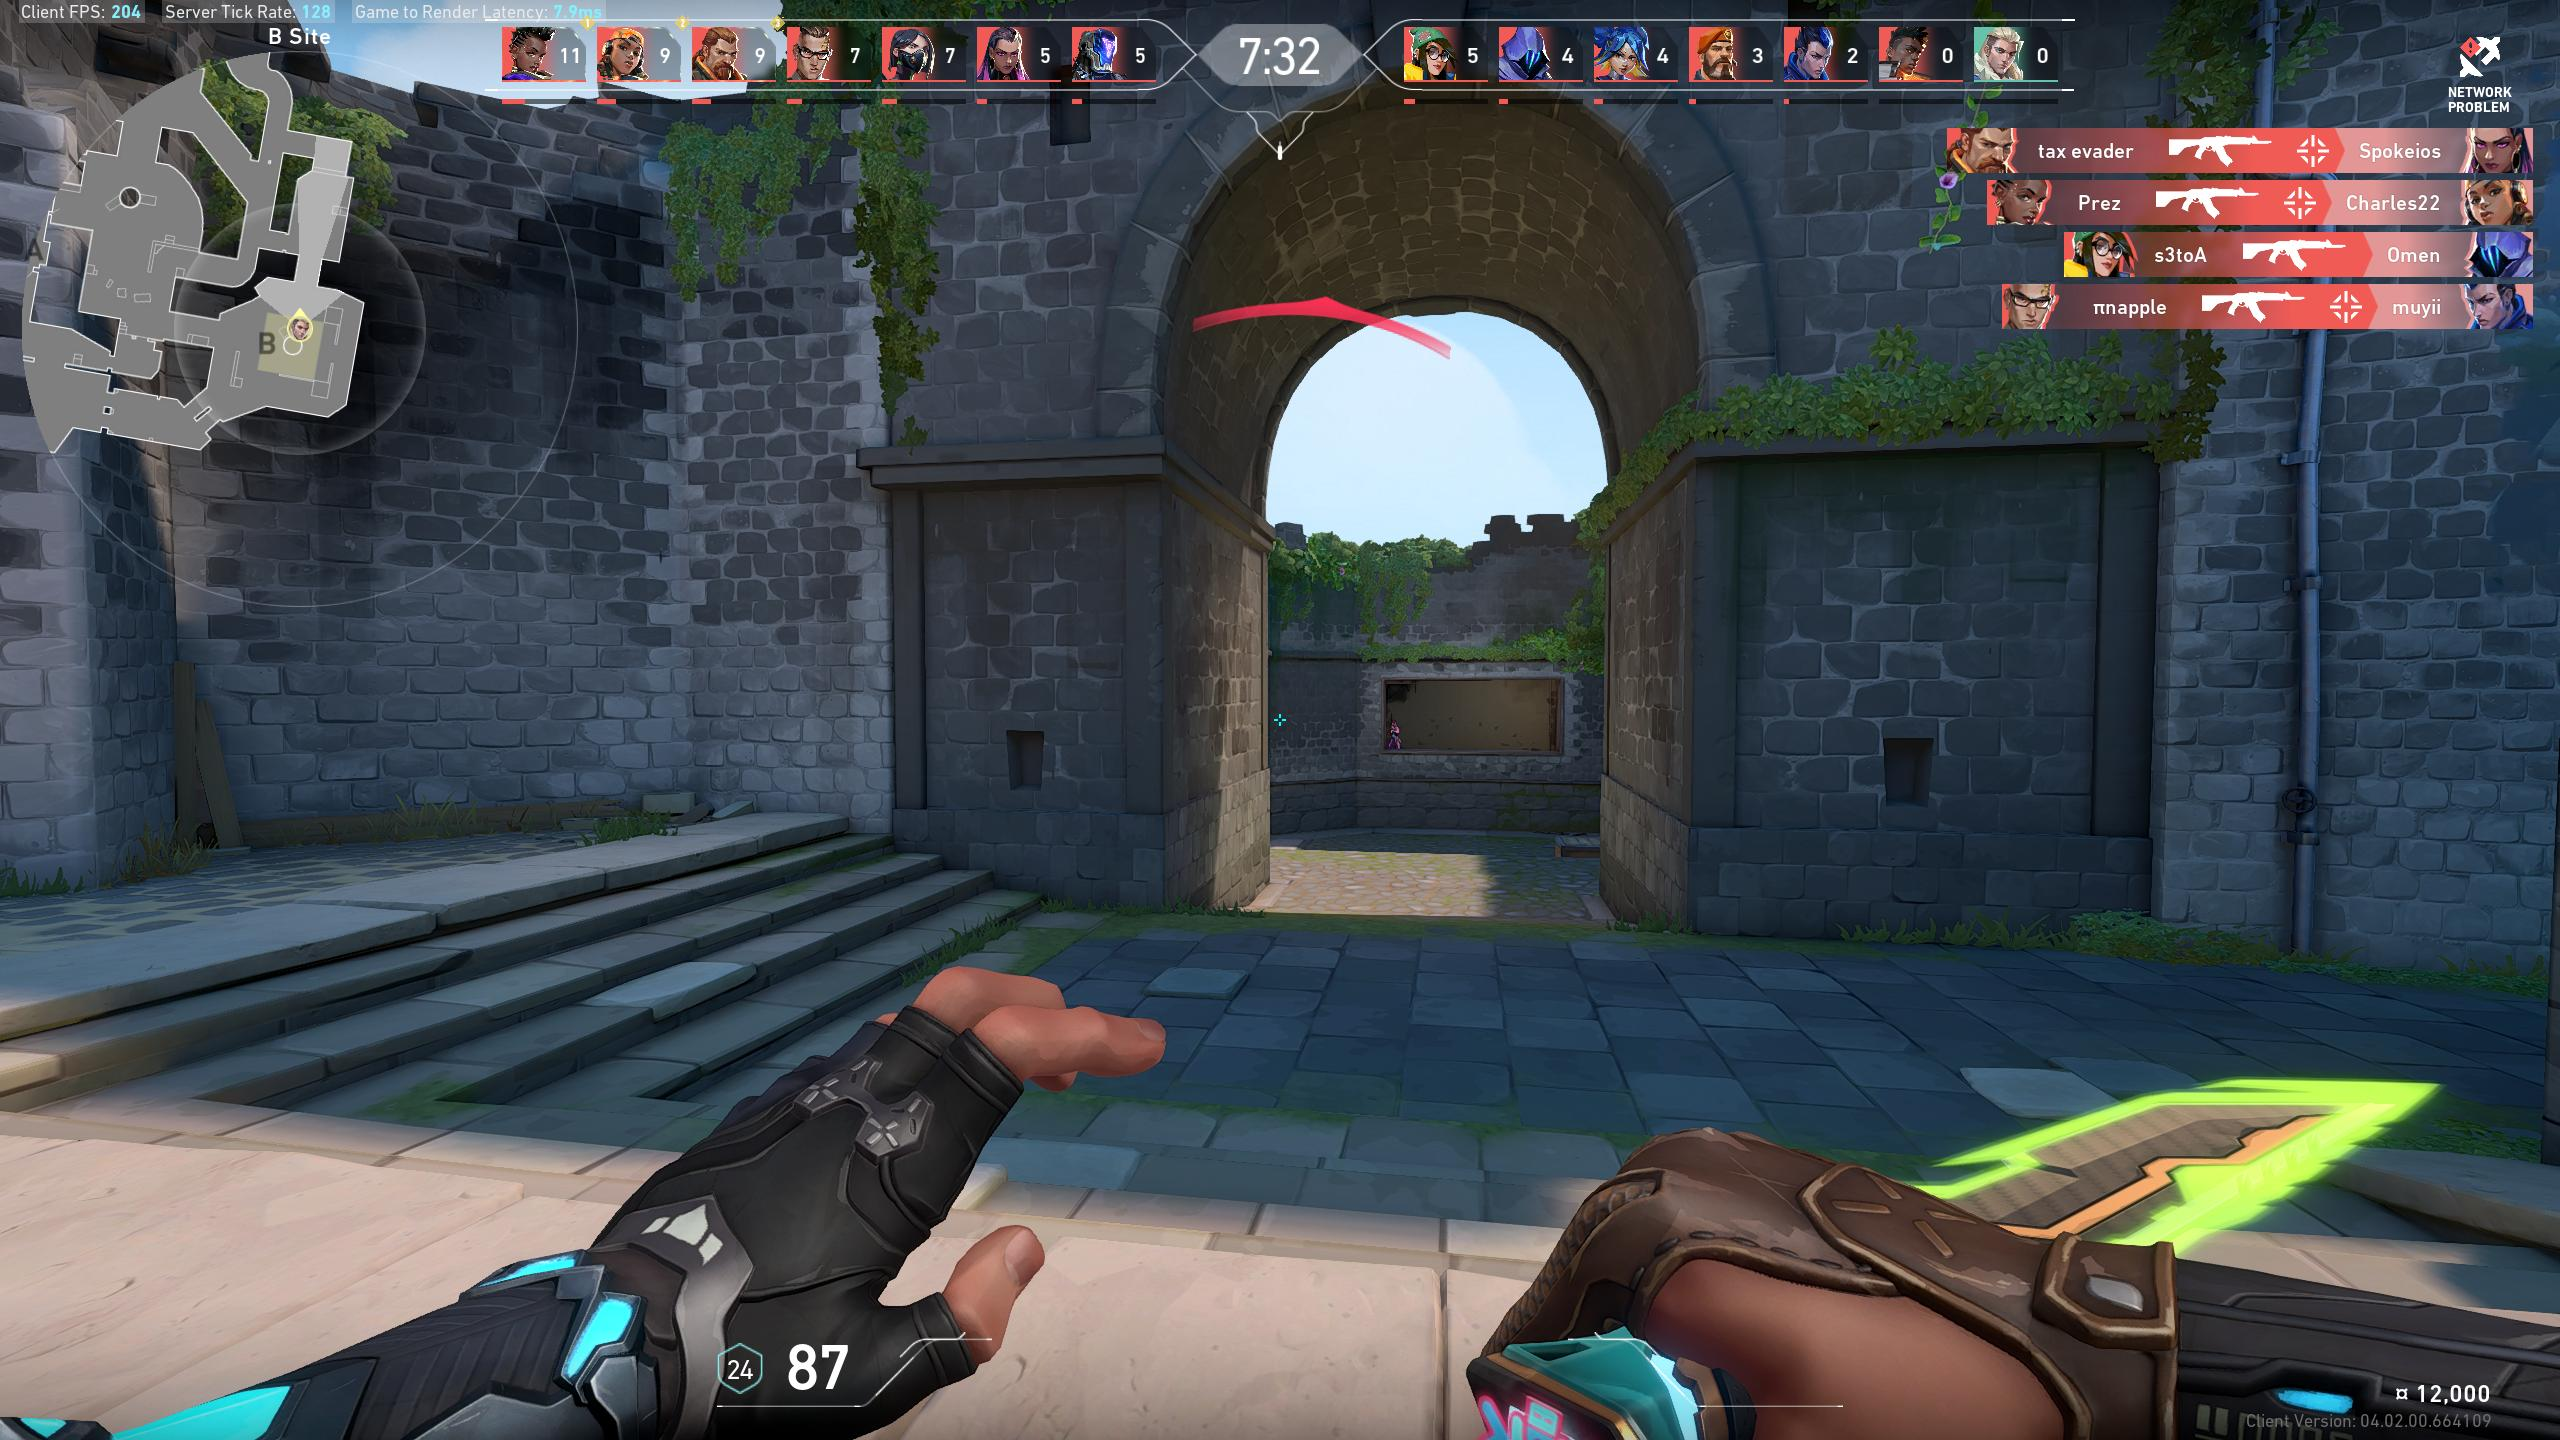enemyBody: (1393, 728, 1398, 738)
enemyHead: (1393, 723, 1394, 726)
